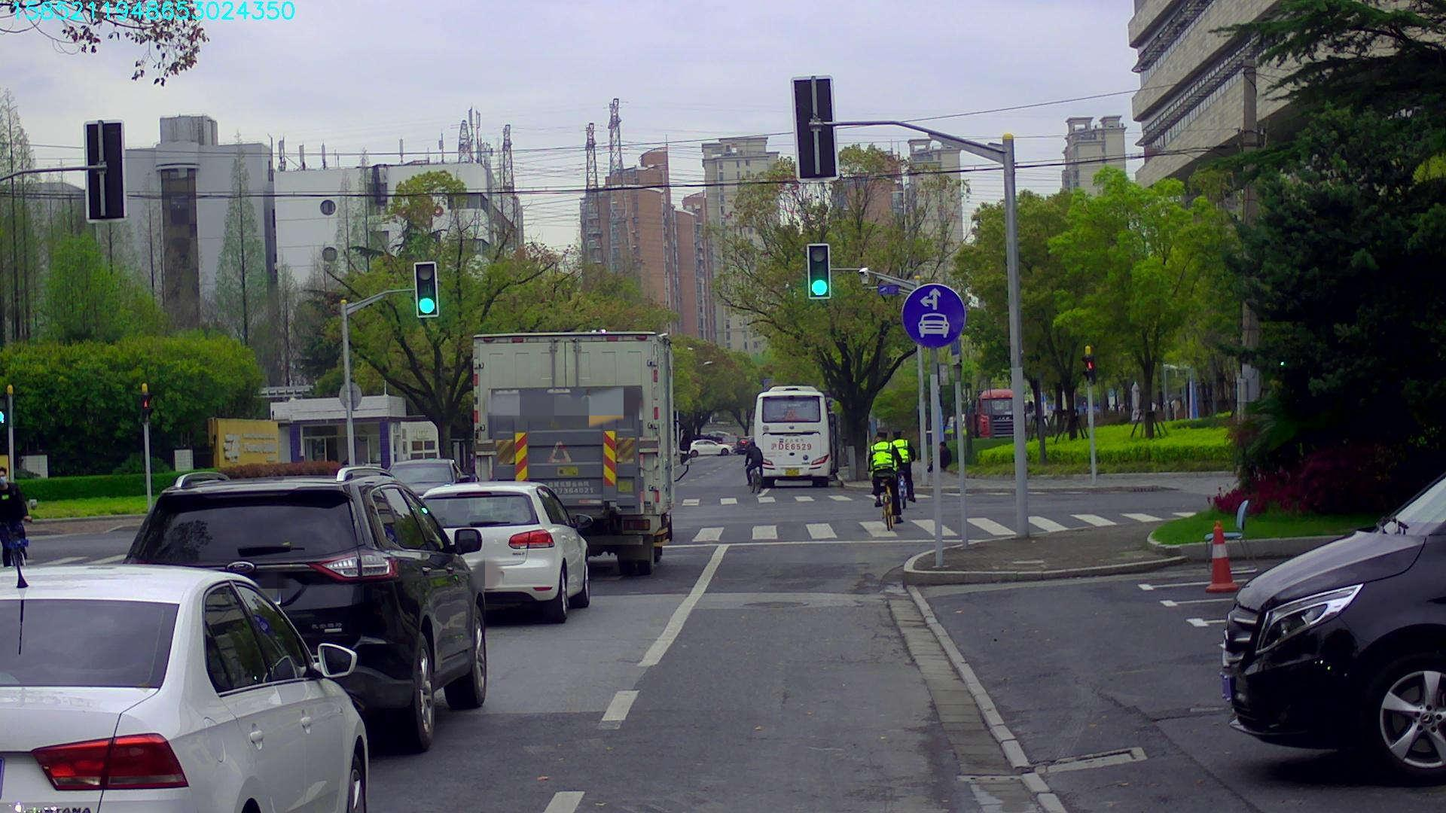green: (415, 262, 436, 315), (808, 244, 829, 297)
